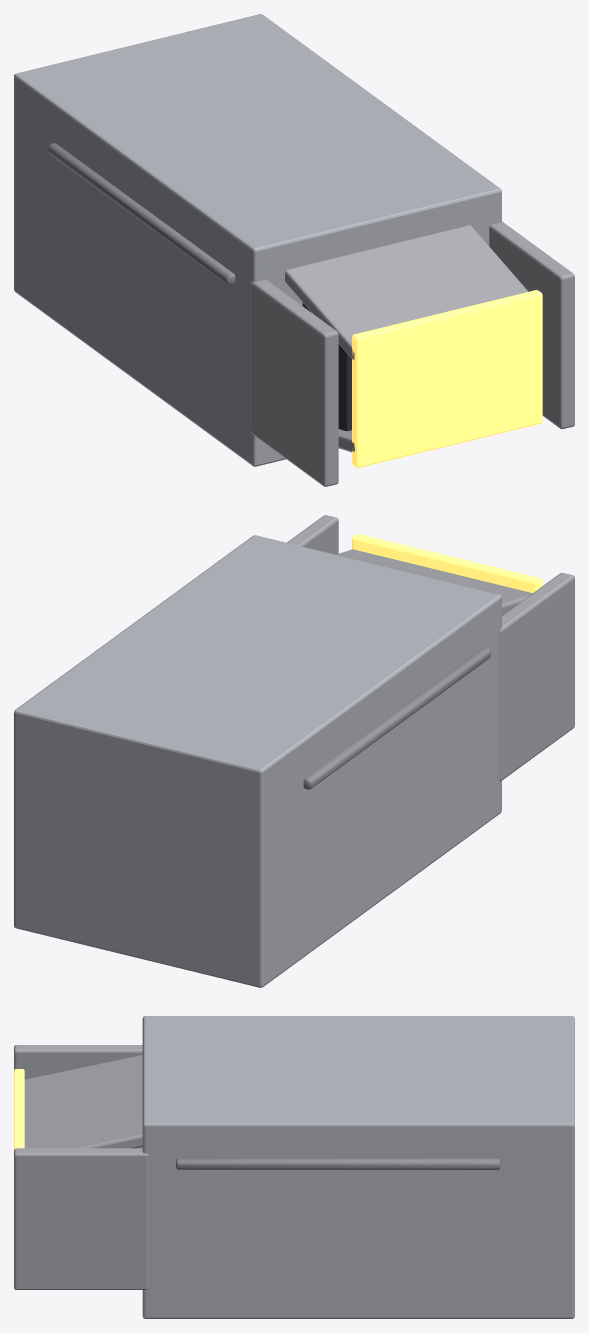
File: jet_square.glb
3 renders of one model, top to bottom at view 1: azimuth 30°, elevation 25°; view 2: azimuth 150°, elevation 25°; view 3: azimuth 270°, elevation 25°, orthographic. The views are drawn at different scales.
Visible parts, largest first — view 1: jet_square; view 2: jet_square; view 3: jet_square.
Part boxes in pixels (x1=…): jet_square: x1=14, y1=14, x2=574, y2=486; jet_square: x1=14, y1=515, x2=574, y2=987; jet_square: x1=14, y1=1016, x2=574, y2=1318.
Size of the model in its own units: 1.32 by 1.04 by 2.7.
